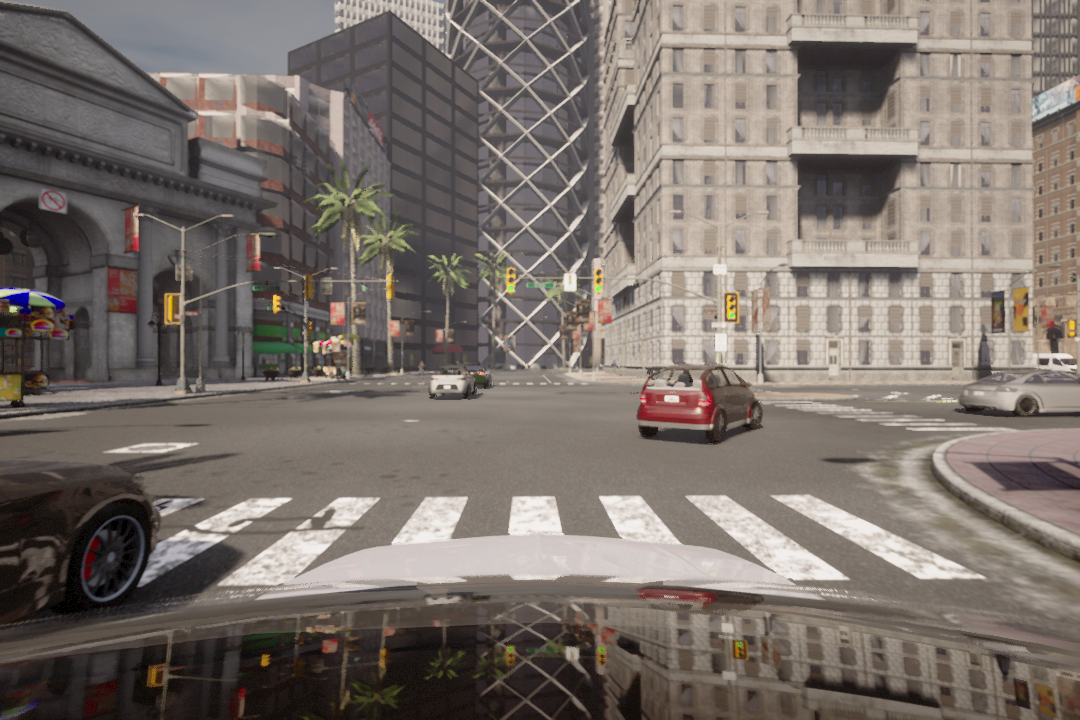TrafficLight: (723, 292, 745, 321), (591, 263, 607, 296), (504, 267, 521, 297)
TrafficSign: (34, 188, 71, 214)
walkside: (134, 491, 972, 596), (747, 395, 1017, 438)
